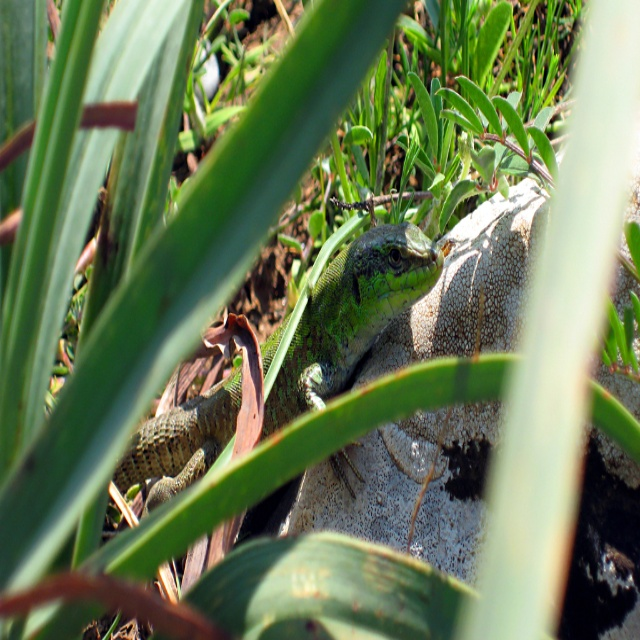Lizard: (113, 209, 441, 499)
